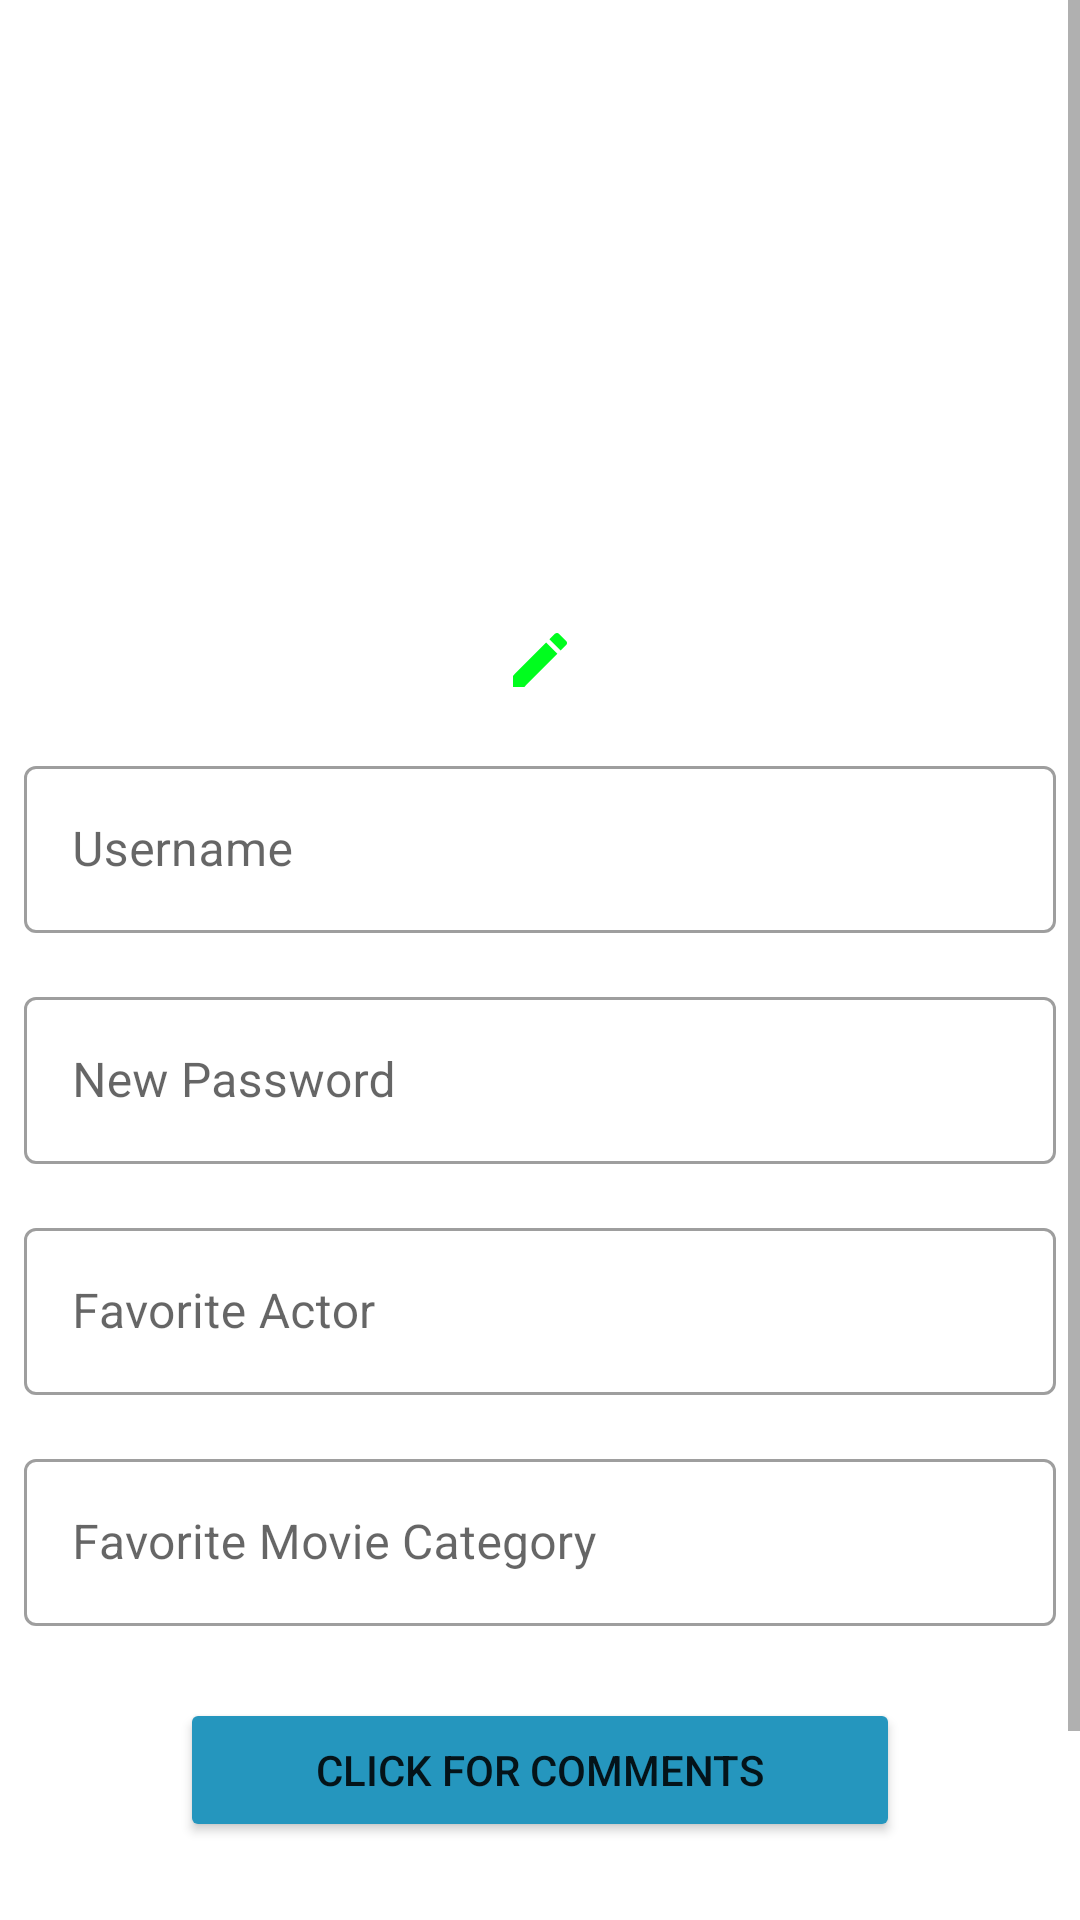

Where to tap for icons on this 1080px×1920px app screen, as [x,y]:
edit: [540,660]
